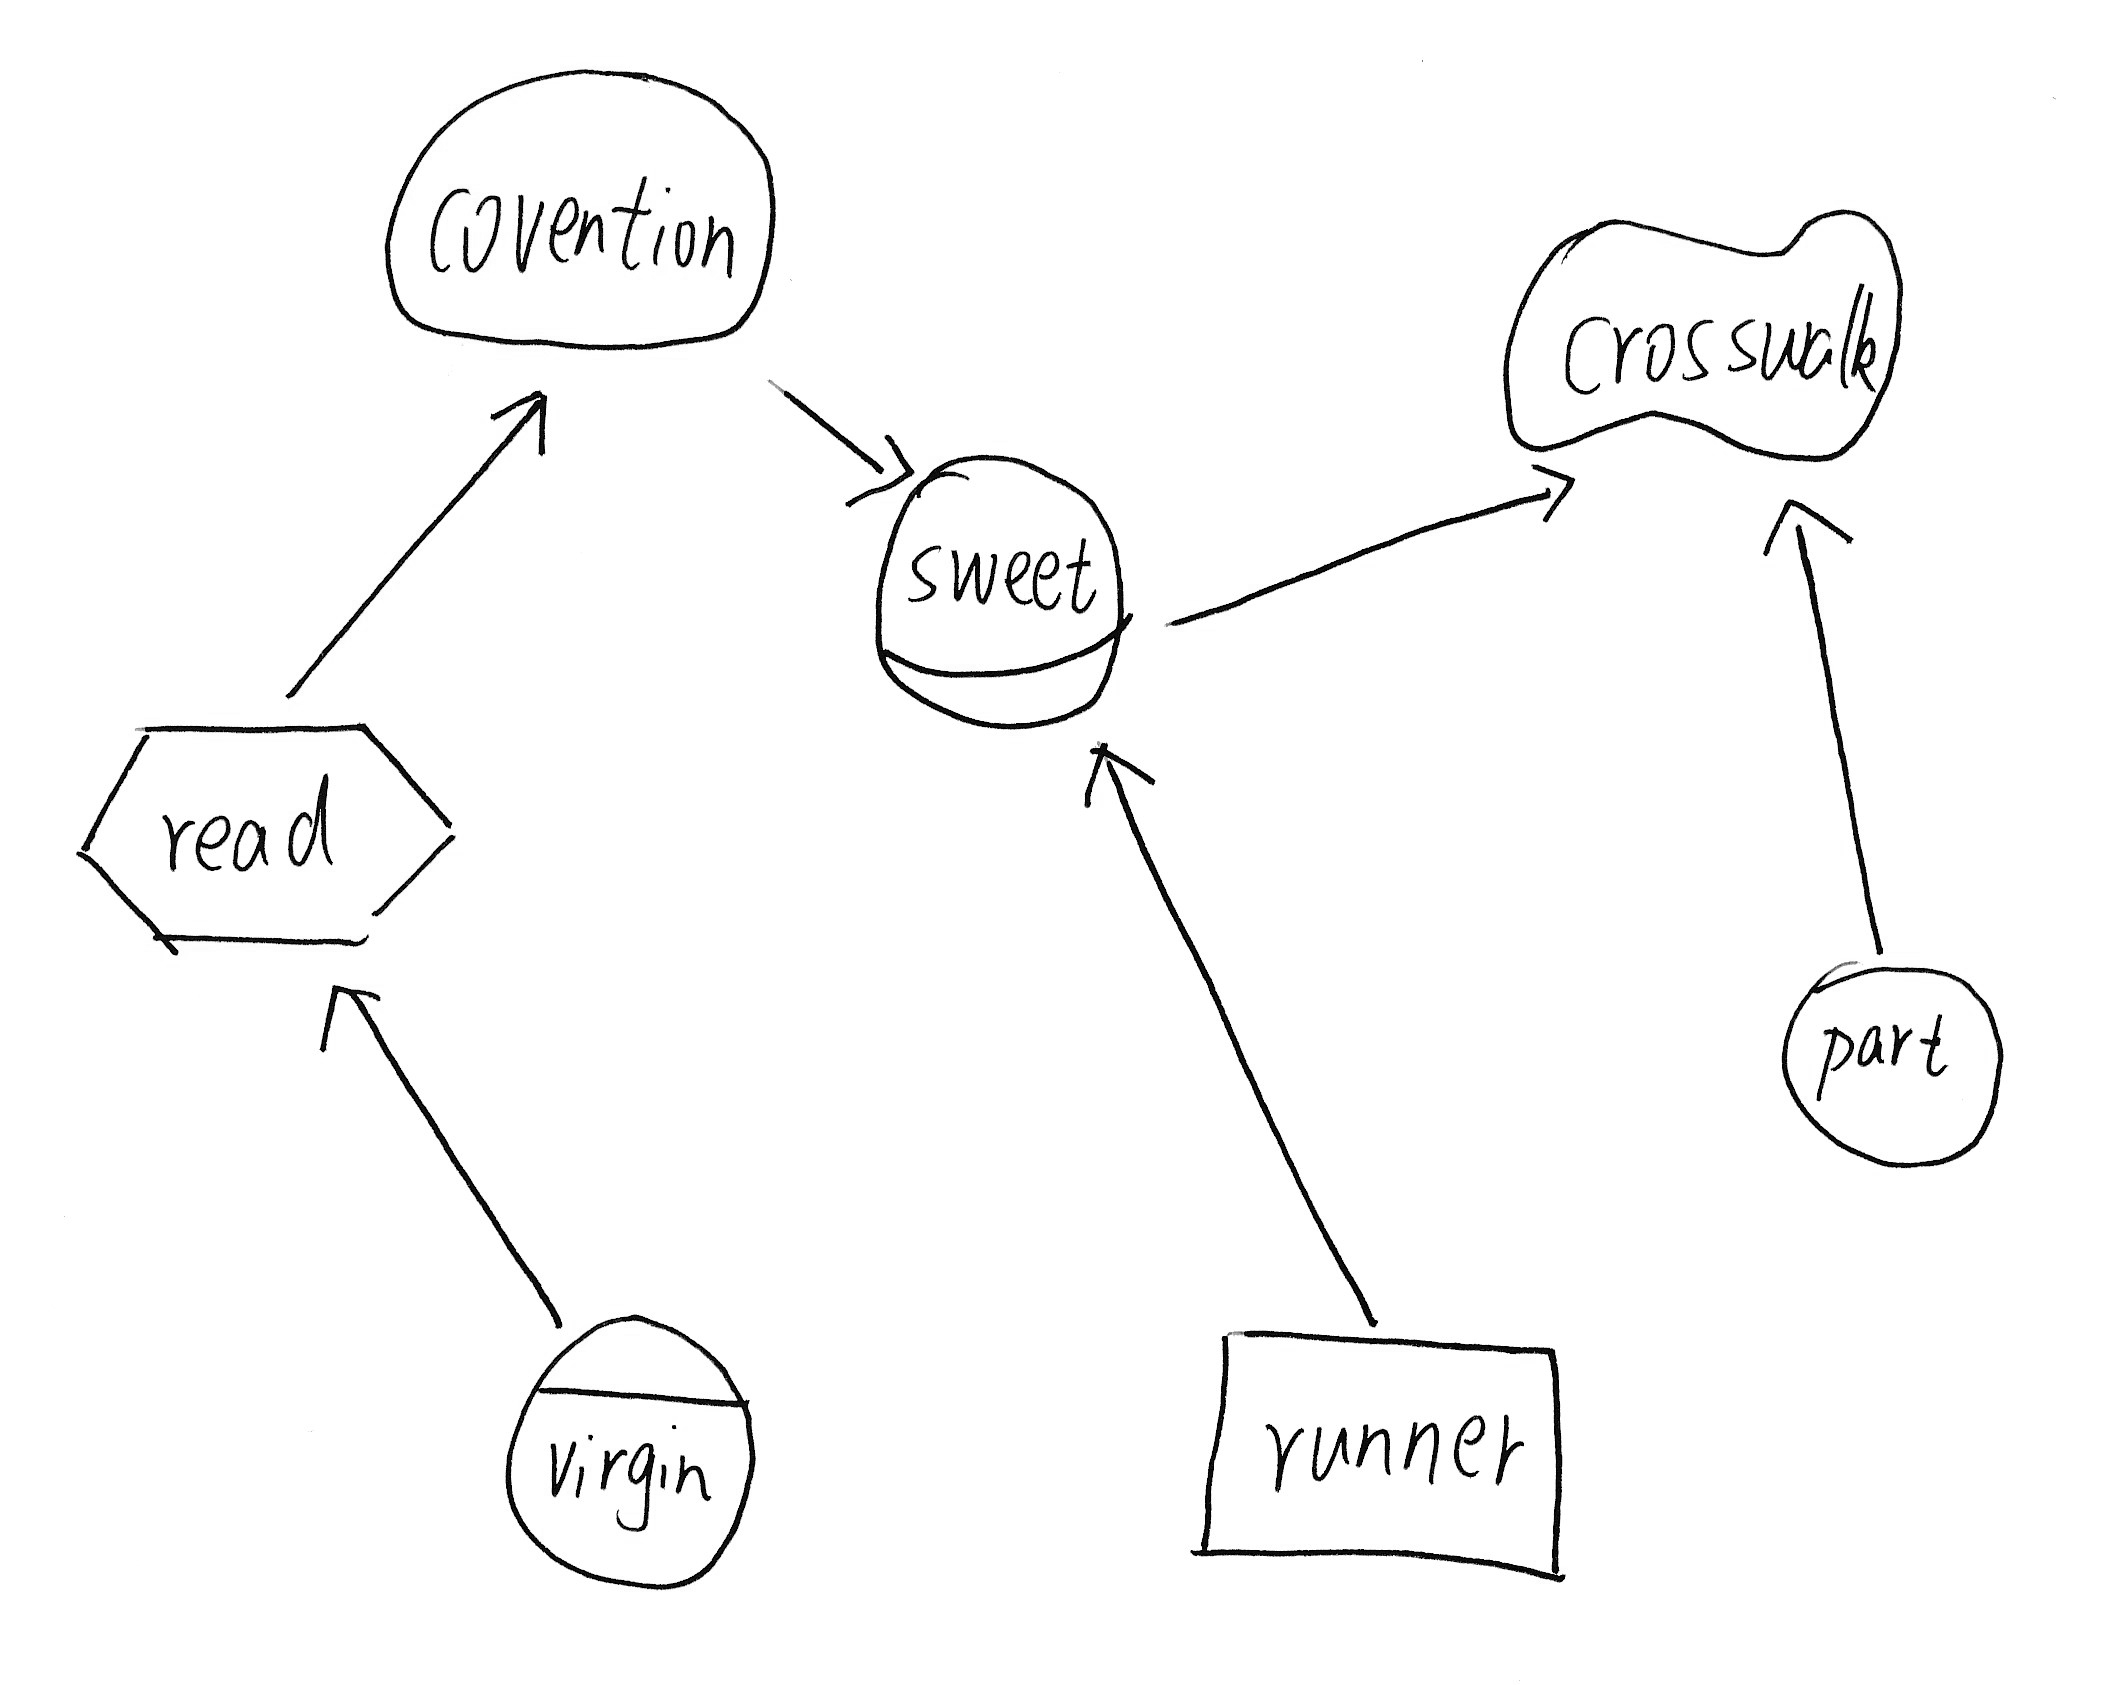actor: (1770, 954, 2016, 1179)
agent: (492, 1305, 772, 1604)
arrow: (1755, 490, 1861, 573), (1071, 732, 1167, 820), (841, 425, 918, 519), (485, 380, 562, 473), (313, 978, 392, 1068), (1519, 457, 1581, 533)
goal: (371, 58, 787, 363)
quality: (1492, 193, 1915, 473)
resource: (1184, 1315, 1581, 1597)
role: (866, 445, 1140, 743)
task: (65, 715, 469, 965)
